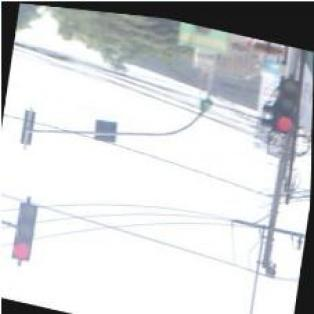Semaforo Rojo: (271, 70, 302, 132), (10, 200, 37, 262)
